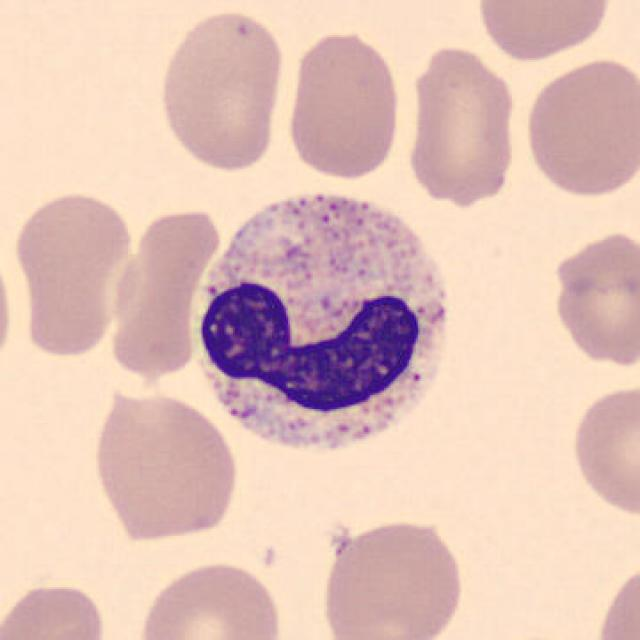Neutrophil: (181, 176, 464, 474)
RBC: (87, 382, 244, 546), (153, 5, 288, 176), (7, 185, 137, 362), (105, 201, 222, 384), (402, 40, 521, 210), (283, 27, 405, 184), (316, 515, 468, 640), (519, 53, 638, 201), (133, 555, 288, 640), (548, 226, 638, 372), (566, 381, 638, 522), (473, 0, 615, 63), (0, 578, 112, 640), (592, 555, 638, 640)
